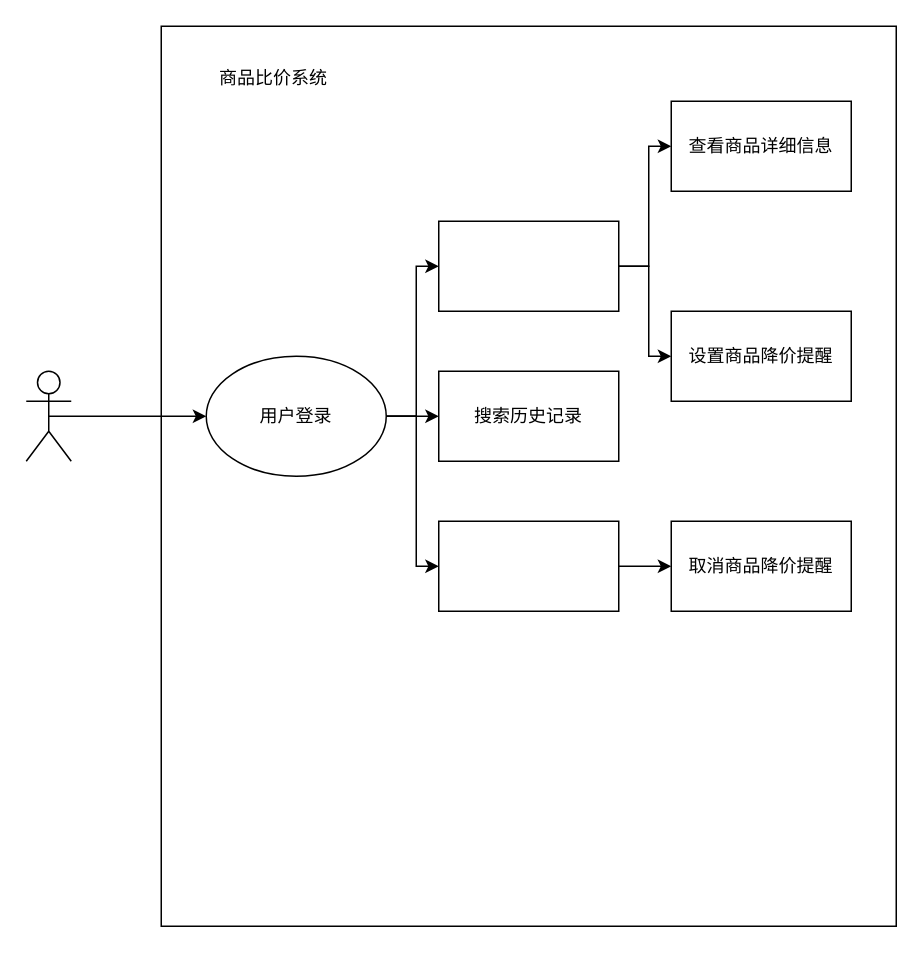
The diagram is 923 pixels wide and 953 high, and some of its shapes have lost their labels. The box of each missing label's shape, as (x1, y1, x2, y2) in pixels:
查看降价提醒商品列表: (437, 520, 619, 611)
查询商品: (437, 220, 619, 311)
用户: (25, 370, 71, 461)
